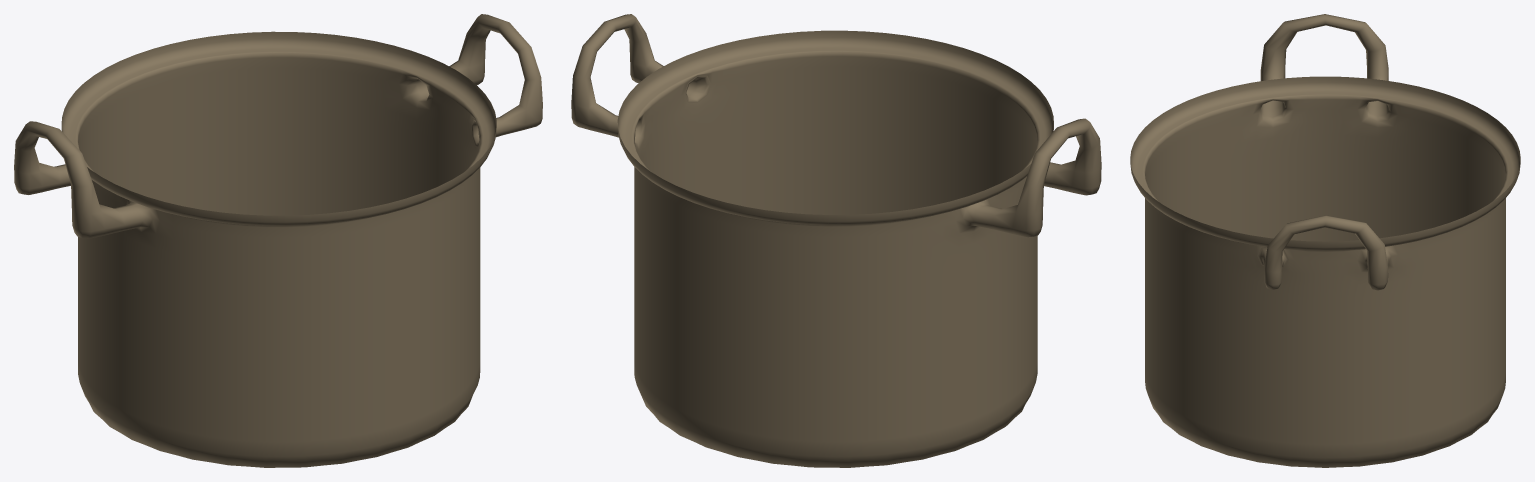
The model's file is panci.fbx.
3 views of the same model, side by side, from view 1: azimuth 30°, elevation 25°; view 2: azimuth 150°, elevation 25°; view 3: azimuth 270°, elevation 25° (orthographic). The views are drawn at different scales.
Visible parts, largest first — view 1: Cylinder; view 2: Cylinder; view 3: Cylinder.
Part boxes in pixels (x1=…): Cylinder: x1=14, y1=14, x2=542, y2=467; Cylinder: x1=571, y1=14, x2=1101, y2=467; Cylinder: x1=1130, y1=14, x2=1520, y2=467.
Size of the model in its own units: 266 by 178 by 215.
